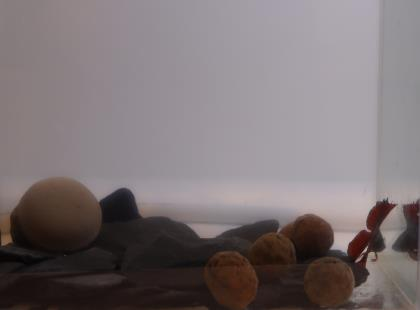fish: (344, 197, 398, 269)
